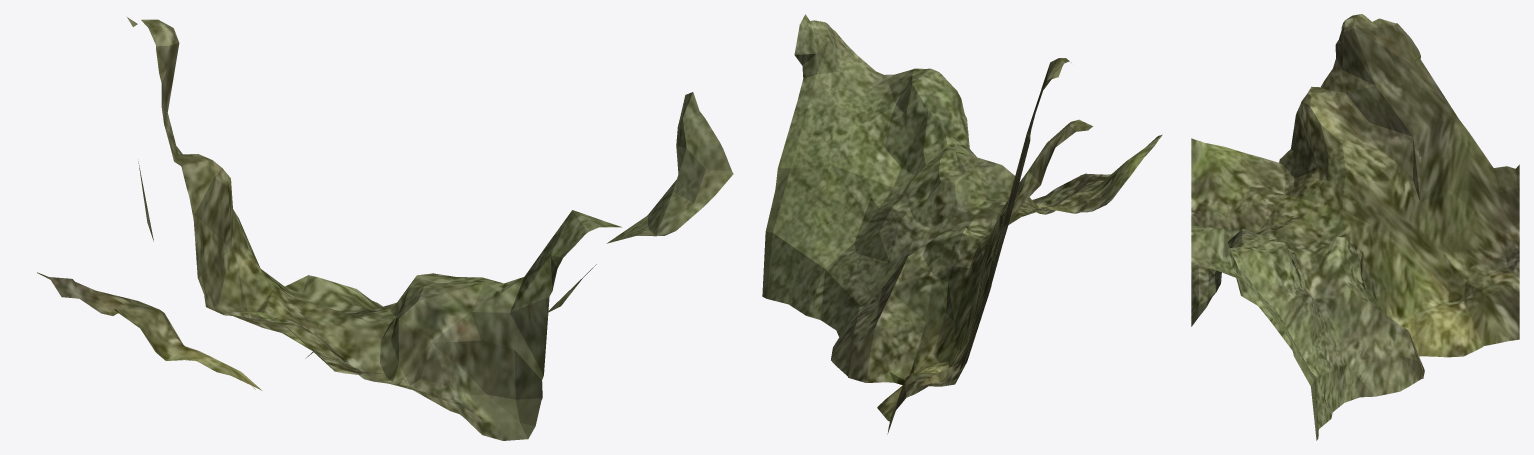
3 views of the same model, side by side, from view 1: azimuth 30°, elevation 25°; view 2: azimuth 150°, elevation 25°; view 3: azimuth 270°, elevation 25° (orthographic). The views are drawn at different scales.
Bounding box in the file's own units: 2.95 × 2.86 × 2.95.
Materials: 3 (3 with a texture image).
